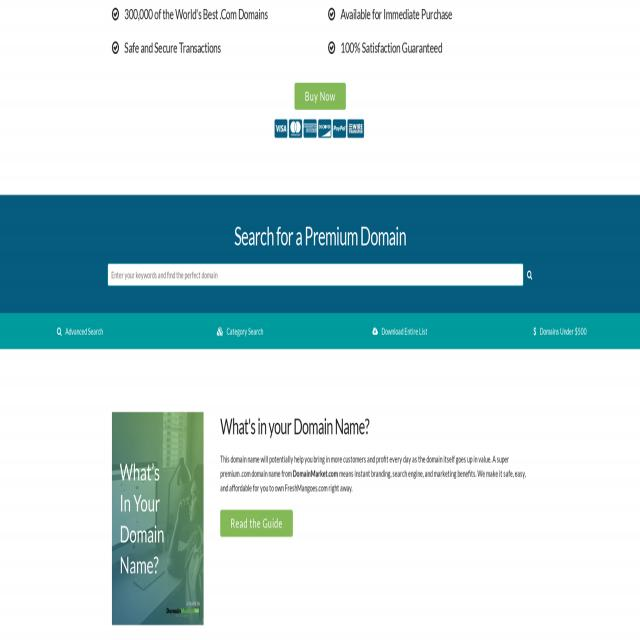button: (112, 412, 204, 626), (220, 510, 293, 537), (294, 83, 346, 110), (346, 116, 366, 141), (274, 116, 288, 141), (289, 116, 303, 141), (303, 116, 317, 141), (318, 116, 332, 141), (333, 116, 347, 141), (524, 263, 534, 286)
field: (109, 264, 522, 286)
